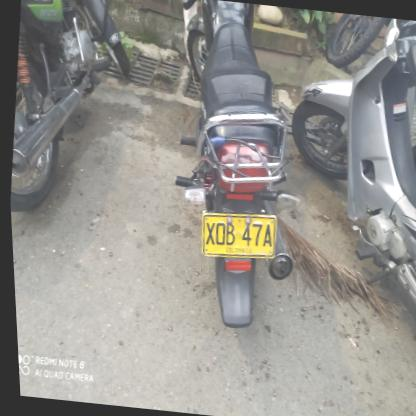placa: (190, 203, 279, 266)
